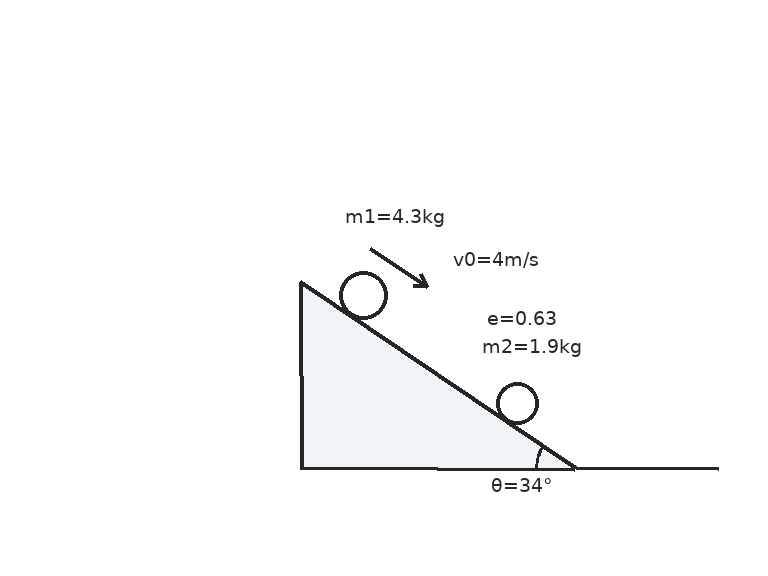ball: (337, 269, 389, 321), (494, 380, 540, 426)
ramp: (298, 280, 578, 470)
